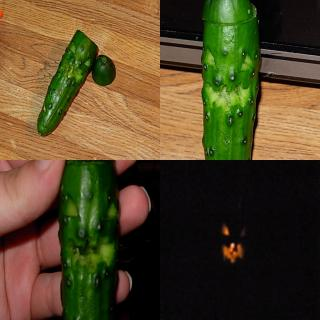Cucumber: (57, 160, 120, 320), (200, 0, 262, 160), (36, 28, 98, 134), (92, 55, 116, 85)
